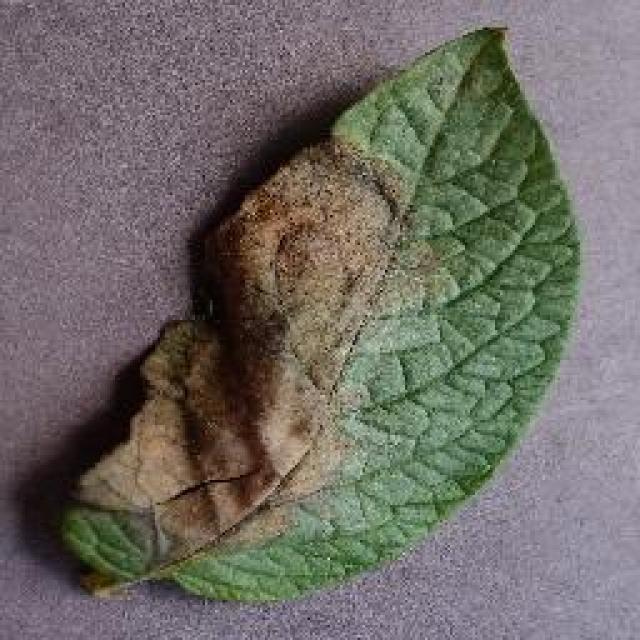late_blight: (55, 22, 585, 608)
